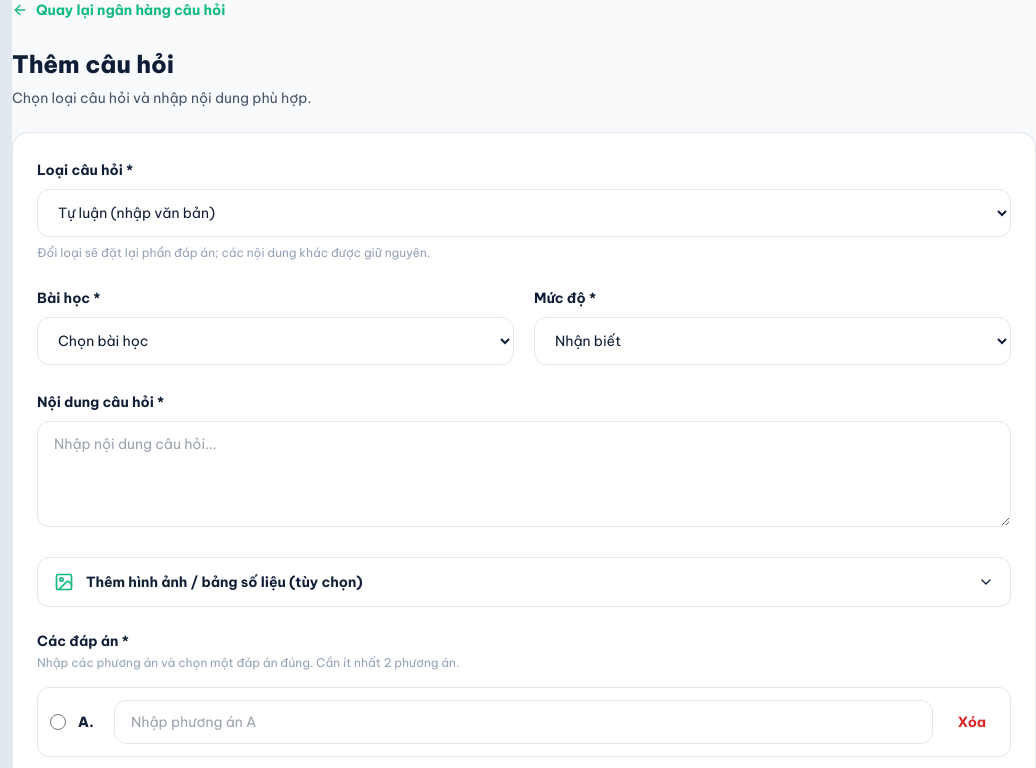
Test: Teacher Question editor API integration › focuses missing question content only on save and keeps the selected lesson
Select "Tự luận (nhập văn bản)" in the 1st dropdown at (524, 213), box [37,189,1011,237]
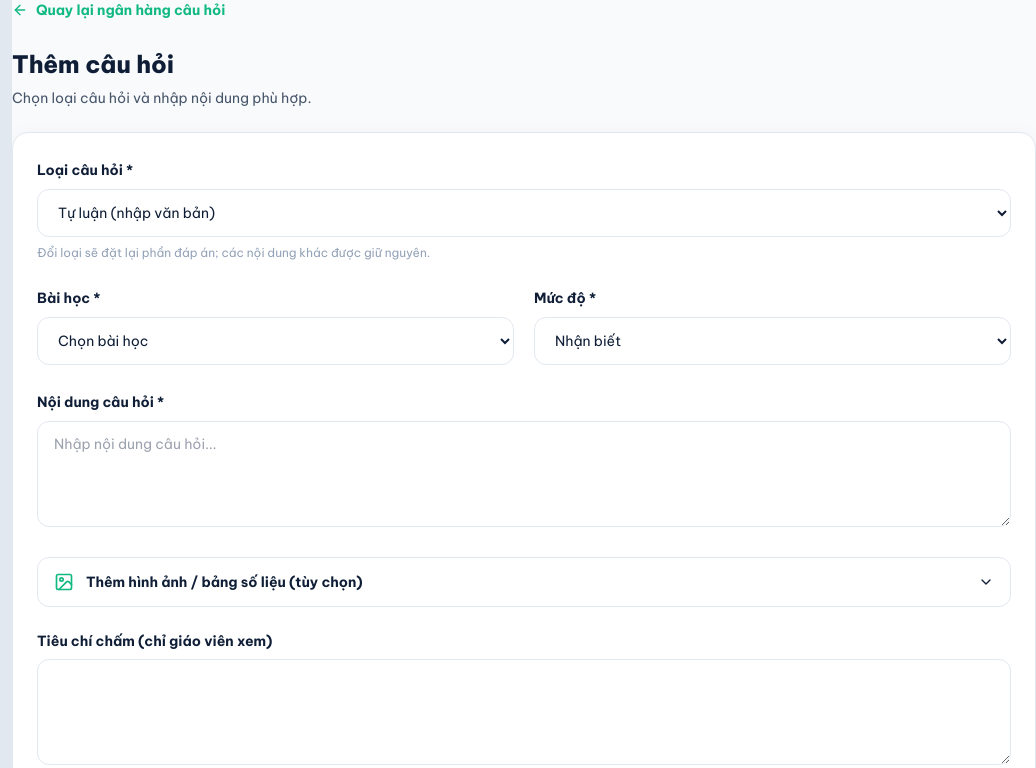
Select "Tự luận (nhập văn bản)" in the 1st dropdown at (524, 213), box [37,189,1011,237]
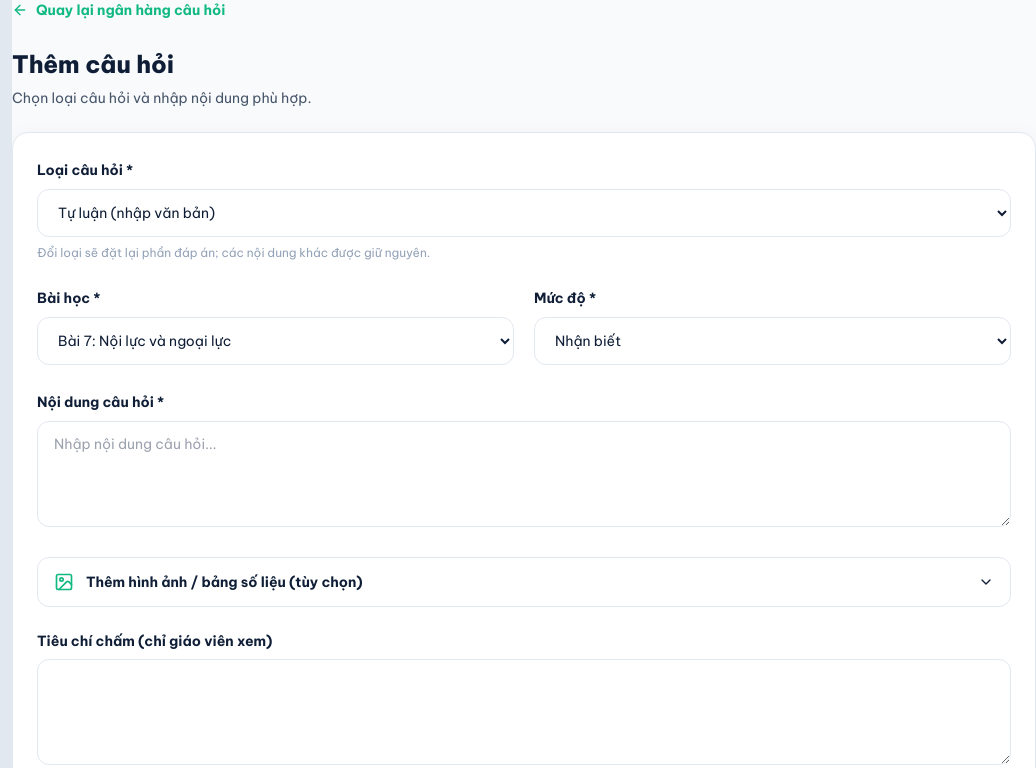
Select "Bài 7: Nội lực và ngoại lực" in the dropdown labelled "Bài học *" at (276, 341), box [37,317,514,365]
Select "Bài 7: Nội lực và ngoại lực" in the dropdown labelled "Bài học *" at (276, 341), box [37,317,514,365]
(page scrolled)
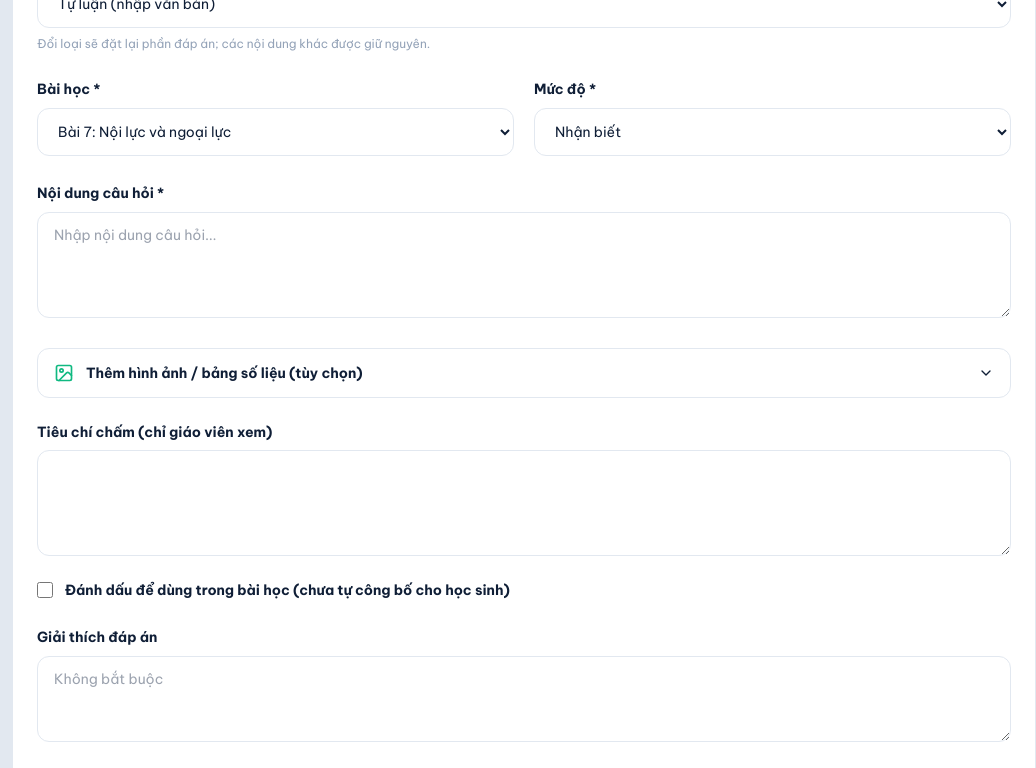
Submit the form
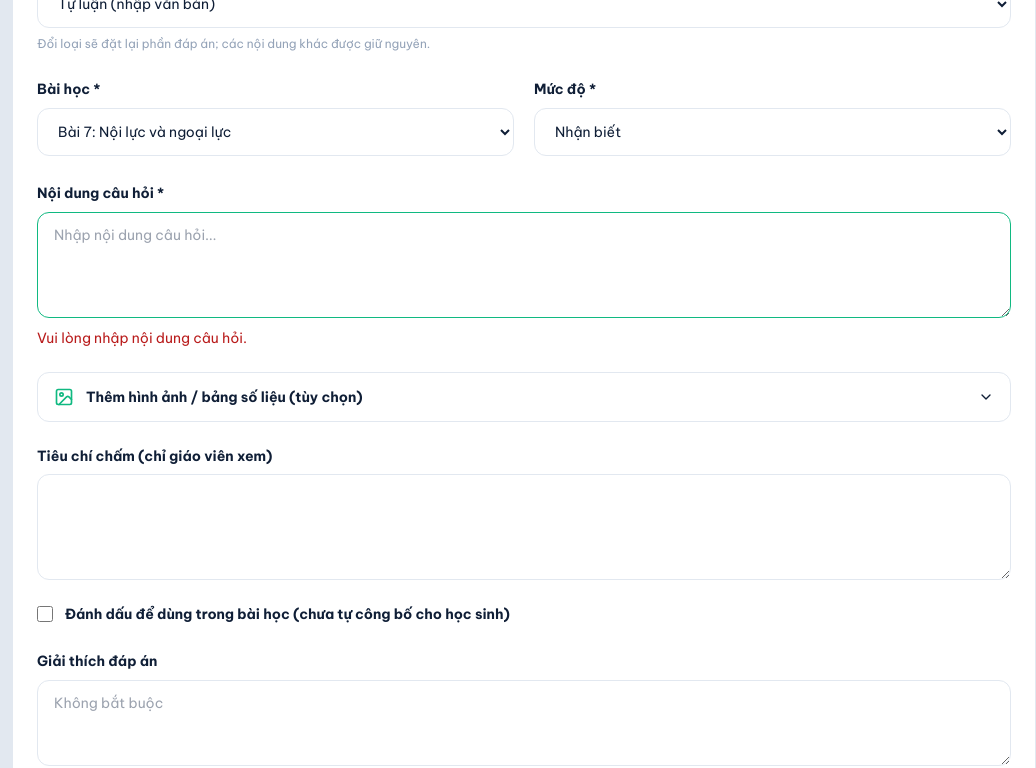
Expected: the text "Vui lòng nhập nội dung câu hỏi." is shown, [37,329,247,347]
